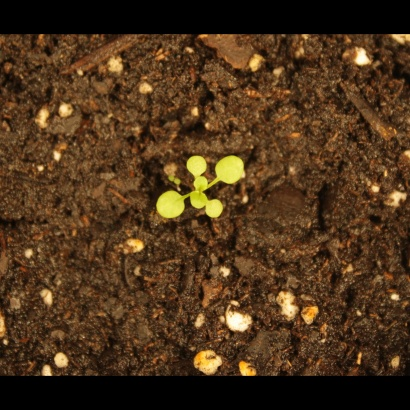leaf: (213, 153, 247, 186), (154, 189, 187, 221), (184, 154, 209, 179), (204, 198, 227, 221), (187, 191, 210, 214), (190, 174, 213, 197)
